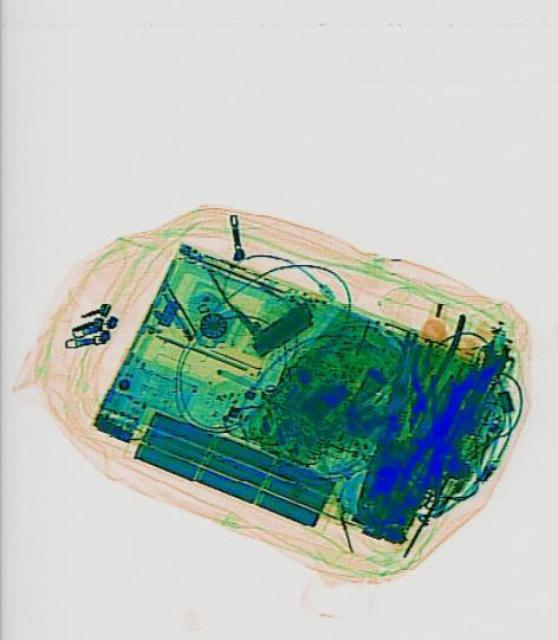Pliers: (332, 336, 471, 540)
